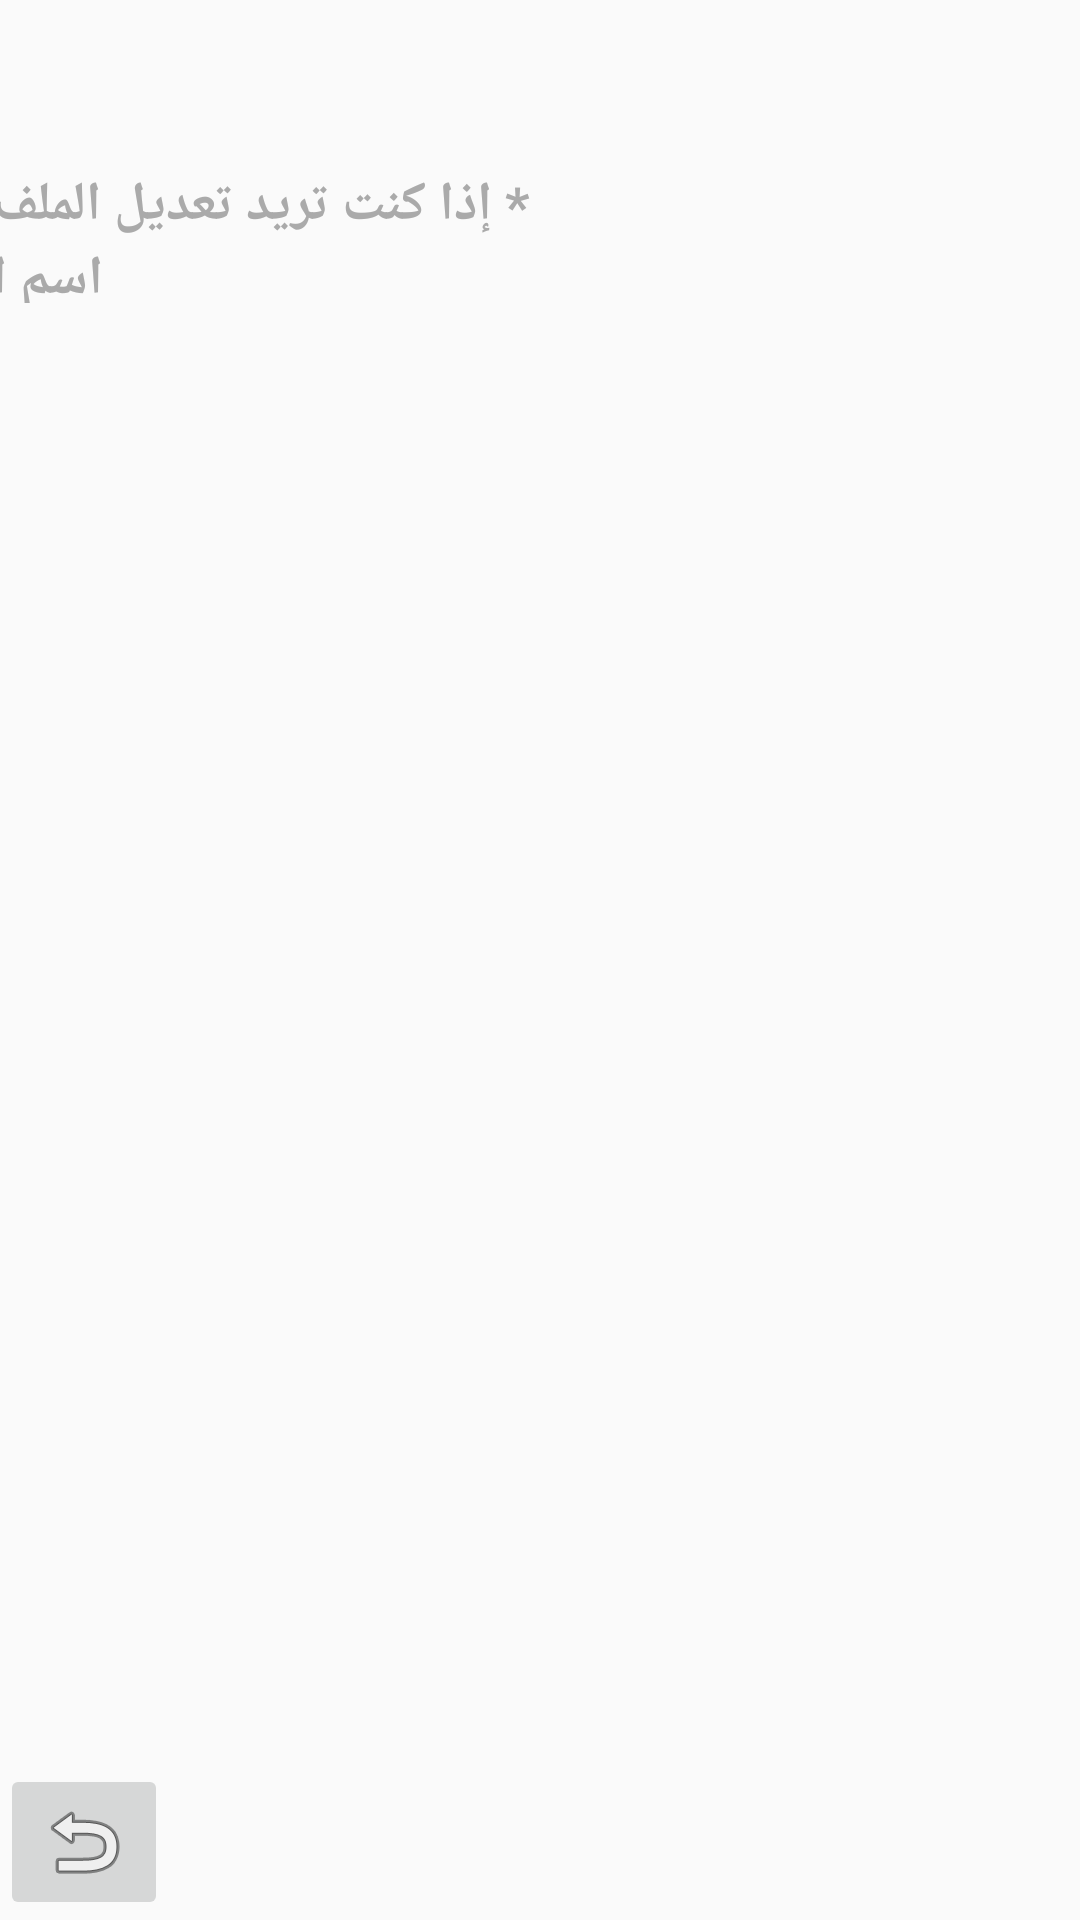

Named icons in this screenshot (1080 × 1920) and their centers, [x,y]:
revert: [84,1842]
